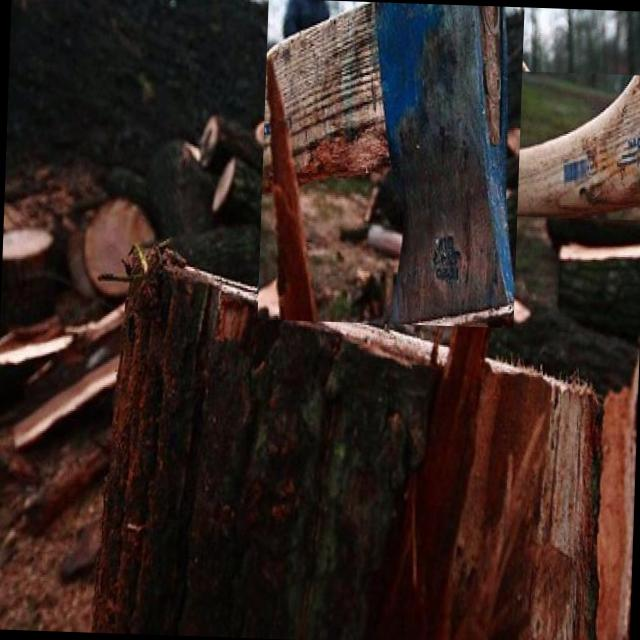Axe: (267, 4, 514, 324), (510, 75, 640, 217)
